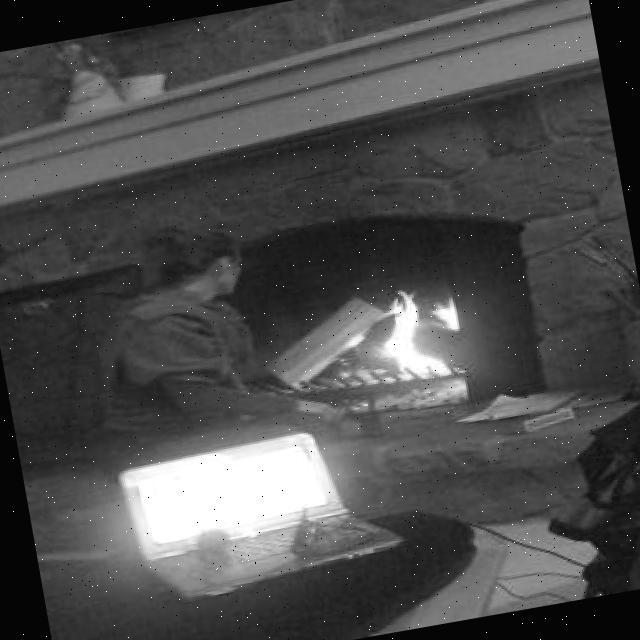Fire: (348, 273, 480, 394)
